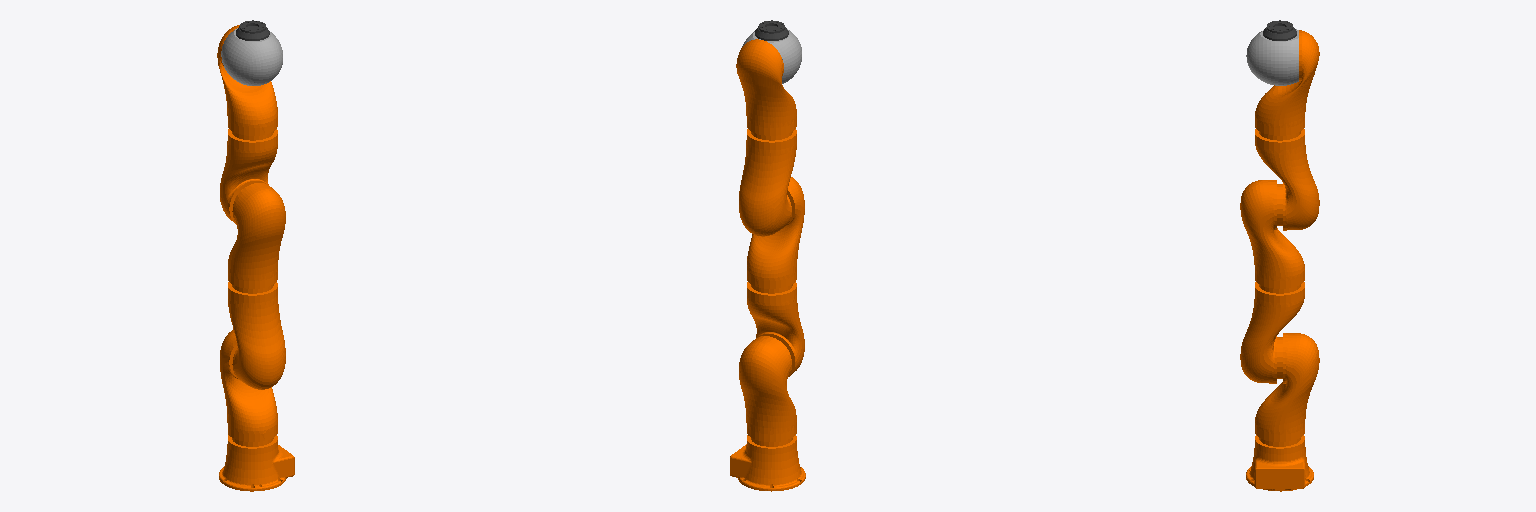
--- Facts derived from the render (not from the file) ---
3 views of the same robot in one strip: view 1: azimuth 30°, elevation 25°; view 2: azimuth 150°, elevation 25°; view 3: azimuth 270°, elevation 25° (orthographic).
Model unipi_torso with 19 links and 18 joints (14 revolute, 4 fixed), rooted at world, posed all joints at 0.
Links seen in each view (by area): view 1: left_arm_3_link, left_arm_2_link, left_arm_1_link, left_arm_base_link, left_arm_5_link, left_arm_4_link, left_arm_6_link, left_arm_7_link; view 2: left_arm_1_link, left_arm_4_link, left_arm_5_link, left_arm_3_link, left_arm_base_link, left_arm_2_link, left_arm_6_link, left_arm_7_link; view 3: left_arm_1_link, left_arm_3_link, left_arm_4_link, left_arm_2_link, left_arm_5_link, left_arm_base_link, left_arm_6_link, left_arm_7_link.
Link boxes in pixels (x1,y1,x2,y2): left_arm_3_link: [228, 183, 285, 293]; left_arm_2_link: [228, 282, 285, 389]; left_arm_1_link: [220, 329, 277, 446]; left_arm_base_link: [219, 435, 294, 491]; left_arm_5_link: [217, 25, 277, 140]; left_arm_4_link: [220, 129, 277, 224]; left_arm_6_link: [221, 28, 282, 85]; left_arm_7_link: [236, 20, 269, 40]; left_arm_1_link: [739, 336, 796, 446]; left_arm_4_link: [739, 129, 796, 236]; left_arm_5_link: [736, 39, 796, 140]; left_arm_3_link: [747, 177, 804, 293]; left_arm_base_link: [730, 435, 805, 491]; left_arm_2_link: [747, 282, 804, 376]; left_arm_6_link: [742, 29, 801, 83]; left_arm_7_link: [755, 20, 788, 40]; left_arm_1_link: [1255, 333, 1319, 446]; left_arm_3_link: [1240, 180, 1304, 293]; left_arm_4_link: [1255, 129, 1319, 230]; left_arm_2_link: [1240, 282, 1304, 383]; left_arm_5_link: [1255, 30, 1319, 140]; left_arm_base_link: [1246, 435, 1313, 491]; left_arm_6_link: [1246, 29, 1298, 85]; left_arm_7_link: [1263, 20, 1296, 40].
Size in the robot's own frame: 0.1619 by 0.1876 by 1.18 metres.
Meshes: 10 distinct files referenced, 16 mesh visuals loaded (8 binary STL); not drawn: 2 (reference not matched to a file when rendering).

The robot description file, URDF, robot "unipi_torso":
<?xml version="1.0" ?>
<!-- =================================================================================== -->
<!-- |    This document was autogenerated by xacro from [local-path]/manuelb_workspace/src/ros_unipi_torso/unipi_torso/urdf/unipi_torso.urdf.xacro | -->
<!-- |    EDITING THIS FILE BY HAND IS NOT RECOMMENDED                                 | -->
<!-- =================================================================================== -->
<robot name="unipi_torso" xmlns:xacro="http://www.ros.org/wiki/xacro">
  <material name="Kuka/DarkGrey">
    <color rgba="0.3 0.3 0.3 1.0"/>
  </material>
  <material name="Kuka/LightGrey">
    <color rgba="0.8 0.8 0.8 1.0"/>
  </material>
  <material name="Kuka/Red">
    <color rgba="0.3 0.3 0.3 1.0"/>
  </material>
  <material name="Kuka/Black">
    <color rgba="0 0 0 1.0"/>
  </material>
  <material name="Kuka/Orange">
    <color rgba="1.0 0.487 0 1.0"/>
  </material>
  <material name="Kuka/Silver">
    <color rgba="1.0 1.0 1.0 1.0"/>
  </material>
  <material name="Kuka/Grey">
    <color rgba="0.7 0.7 0.7 1.0"/>
  </material>
  <material name="Kuka/Blue">
    <color rgba="0.0 0.0 0.8 1.0"/>
  </material>
  <gazebo>
    <plugin filename="libgazebo_ros_control.so" name="gazebo_ros_control">
      <!-- <robotNamespace>/lwr</robotNamespace> -->
    </plugin>
  </gazebo>
  <link name="world"/>
  <joint name="world_torso_base_joint" type="fixed">
    <origin xyz="0 0 0"/>
    <parent link="world"/>
    <child link="torso_link"/>
  </joint>
  <link name="torso_link">
    <inertial>
      <mass value="5.0"/>
      <origin xyz="0 0 0.2"/>
      <inertia ixx="0.00954166666667" ixy="0" ixz="0" iyy="0.009" iyz="0" izz="0.00954166666667"/>
    </inertial>
    <visual>
      <geometry>
        <mesh filename="package://unipi_torso/meshes/torso.stl"/>
      </geometry>
      <material name="Silver"/>
    </visual>
    <collision>
      <geometry>
        <mesh filename="package://unipi_torso/meshes/torso_collision.stl"/>
      </geometry>
    </collision>
  </link>
  <joint name="world_left_arm_base_joint" type="fixed">
    <origin rpy="0.713724310019 0.848061955225 -0.713724310019" xyz="0.0 -0.108585 0.475"/>
    <origin rpy="0 0 0" xyz="0 0 0"/>
    <parent link="world"/>
    <child link="left_arm_base_link"/>
  </joint>
  <link name="left_arm_base_link">
    <inertial>
      <mass value="2.0"/>
      <origin xyz="0 0 0.055"/>
      <inertia ixx="0.00381666666667" ixy="0" ixz="0" iyy="0.0036" iyz="0" izz="0.00381666666667"/>
    </inertial>
    <visual>
      <origin rpy="0 0 3.14159265359" xyz="0 0 0"/>
      <geometry>
        <mesh filename="package://lwr_description/meshes/base.STL"/>
      </geometry>
      <material name="Kuka/Orange"/>
    </visual>
    <collision>
      <origin rpy="0 0 3.14159265359" xyz="0 0 0.055"/>
      <geometry>
        <!-- <mesh filename="package://lwr_description/meshes/convex/arm_base_convex.stl"/> -->
        <cylinder length="0.11" radius="0.07"/>
      </geometry>
    </collision>
  </link>
  <joint name="left_arm_0_joint" type="revolute">
    <origin rpy="0 0 0" xyz="0 0 0.11"/>
    <axis xyz="0 0 1"/>
    <limit effort="204" lower="-2.96705972839" upper="2.96705972839" velocity="1.91986217719"/>
    <safety_controller k_position="30" k_velocity="30" soft_lower_limit="-2.93215314335" soft_upper_limit="2.93215314335"/>
    <dynamics damping="1.0"/>
    <parent link="left_arm_base_link"/>
    <child link="left_arm_1_link"/>
  </joint>
  <link name="left_arm_1_link">
    <inertial>
      <mass value="2.0"/>
      <origin rpy="0 0 0" xyz="0 -0.06 0.130"/>
      <inertia ixx="0.0136666666667" ixy="0" ixz="0" iyy="0.003" iyz="0" izz="0.0118666666667"/>
    </inertial>
    <visual>
      <origin rpy="0 0 3.14159265359" xyz="0 0 -0.008"/>
      <geometry>
        <mesh filename="package://lwr_description/meshes/link_1.STL"/>
      </geometry>
      <material name="Kuka/Orange"/>
    </visual>
    <collision>
      <origin rpy="0 0 0" xyz="0 0 0.0"/>
      <geometry>
        <!--mesh filename="package://lwr_description/meshes/convex/arm_segment_a_convex.stl"/-->
        <sphere radius="0.07"/>
      </geometry>
    </collision>
    <collision>
      <origin rpy="0 0 0" xyz="0 0.06 0.2"/>
      <geometry>
        <sphere radius="0.07"/>
      </geometry>
    </collision>
    <collision>
      <origin rpy="-0.291 0 0" xyz="0 0.03 0.1"/>
      <geometry>
        <cylinder length="0.208" radius="0.07"/>
      </geometry>
    </collision>
  </link>
  <joint name="left_arm_1_joint" type="revolute">
    <origin rpy="0 0 0" xyz="0 0 0.2005"/>
    <axis xyz="0 -1 0"/>
    <limit effort="306" lower="-2.09439510239" upper="2.09439510239" velocity="1.91986217719"/>
    <safety_controller k_position="30" k_velocity="30" soft_lower_limit="-2.05948851735" soft_upper_limit="2.05948851735"/>
    <dynamics damping="1.0"/>
    <parent link="left_arm_1_link"/>
    <child link="left_arm_2_link"/>
  </joint>
  <link name="left_arm_2_link">
    <inertial>
      <mass value="2.0"/>
      <origin rpy="0 0 0" xyz="0 0.06 0.07"/>
      <inertia ixx="0.0136666666667" ixy="0" ixz="0" iyy="0.003" iyz="0" izz="0.0118666666667"/>
    </inertial>
    <visual>
      <origin rpy="0 0 3.14159265359" xyz="0 0 0.0"/>
      <geometry>
        <mesh filename="package://lwr_description/meshes/link_2.STL"/>
      </geometry>
      <material name="Kuka/Orange"/>
    </visual>
    <collision>
      <origin rpy="0 0 0" xyz="0 0 0.2"/>
      <geometry>
        <!--mesh filename="package://lwr_description/meshes/convex/arm_segment_b_convex.stl"/-->
        <sphere radius="0.07"/>
      </geometry>
    </collision>
    <collision>
      <origin rpy="0 0 0" xyz="0 -0.06 0.0"/>
      <geometry>
        <sphere radius="0.07"/>
      </geometry>
    </collision>
    <collision>
      <origin rpy="-0.291 0 0" xyz="0 -0.03 0.1"/>
      <geometry>
        <cylinder length="0.208" radius="0.07"/>
      </geometry>
    </collision>
  </link>
  <joint name="left_arm_2_joint" type="revolute">
    <origin rpy="0 0 0" xyz="0 0 0.20"/>
    <axis xyz="0 0 1"/>
    <limit effort="204" lower="-2.96705972839" upper="2.96705972839" velocity="2.26892802759"/>
    <safety_controller k_position="30" k_velocity="30" soft_lower_limit="-2.93215314335" soft_upper_limit="2.93215314335"/>
    <dynamics damping="1.0"/>
    <parent link="left_arm_2_link"/>
    <child link="left_arm_3_link"/>
  </joint>
  <link name="left_arm_3_link">
    <inertial>
      <mass value="2.0"/>
      <origin rpy="0 0 0" xyz="0 0.06 0.130"/>
      <inertia ixx="0.0136666666667" ixy="0" ixz="0" iyy="0.003" iyz="0" izz="0.0118666666667"/>
    </inertial>
    <visual>
      <origin rpy="0 0 3.14159265359" xyz="0 0 -0.008"/>
      <geometry>
        <mesh filename="package://lwr_description/meshes/link_3.STL"/>
      </geometry>
      <material name="Kuka/Orange"/>
    </visual>
    <collision>
      <origin rpy="0 0 0" xyz="0 0 0.0"/>
      <geometry>
        <!--mesh filename="package://lwr_description/meshes/convex/arm_segment_a_convex.stl"/-->
        <sphere radius="0.07"/>
      </geometry>
    </collision>
    <collision>
      <origin rpy="0 0 0" xyz="0 -0.06 0.2"/>
      <geometry>
        <sphere radius="0.07"/>
      </geometry>
    </collision>
    <collision>
      <origin rpy="0.291 0 0" xyz="0 -0.03 0.1"/>
      <geometry>
        <cylinder length="0.208" radius="0.07"/>
      </geometry>
    </collision>
  </link>
  <joint name="left_arm_3_joint" type="revolute">
    <origin rpy="0 0 0" xyz="0 0 0.20"/>
    <axis xyz="0 1 0"/>
    <limit effort="306" lower="-2.09439510239" upper="2.09439510239" velocity="2.26892802759"/>
    <safety_controller k_position="30" k_velocity="30" soft_lower_limit="-2.05948851735" soft_upper_limit="2.05948851735"/>
    <dynamics damping="1.0"/>
    <parent link="left_arm_3_link"/>
    <child link="left_arm_4_link"/>
  </joint>
  <link name="left_arm_4_link">
    <inertial>
      <mass value="2.0"/>
      <origin rpy="0 0 0" xyz="0 -0.06 0.07"/>
      <inertia ixx="0.0136666666667" ixy="0" ixz="0" iyy="0.003" iyz="0" izz="0.0118666666667"/>
    </inertial>
    <visual>
      <origin rpy="0 0 3.14159265359" xyz="0 0 0.0"/>
      <geometry>
        <mesh filename="package://lwr_description/meshes/link_4.STL"/>
      </geometry>
      <material name="Kuka/Orange"/>
    </visual>
    <collision>
      <origin rpy="0 0 0" xyz="0 0 0.2"/>
      <geometry>
        <!--mesh filename="package://lwr_description/meshes/convex/arm_segment_b_convex.stl"/-->
        <sphere radius="0.07"/>
      </geometry>
    </collision>
    <collision>
      <origin rpy="0 0 0" xyz="0 0.06 0.0"/>
      <geometry>
        <sphere radius="0.07"/>
      </geometry>
    </collision>
    <collision>
      <origin rpy="0.291 0 0" xyz="0 0.03 0.1"/>
      <geometry>
        <cylinder length="0.208" radius="0.07"/>
      </geometry>
    </collision>
  </link>
  <joint name="left_arm_4_joint" type="revolute">
    <origin rpy="0 0 0" xyz="0 0 0.20"/>
    <axis xyz="0 0 1"/>
    <limit effort="204" lower="-2.96705972839" upper="2.96705972839" velocity="2.26892802759"/>
    <safety_controller k_position="30" k_velocity="30" soft_lower_limit="-2.93215314335" soft_upper_limit="2.93215314335"/>
    <dynamics damping="1.0"/>
    <parent link="left_arm_4_link"/>
    <child link="left_arm_5_link"/>
  </joint>
  <link name="left_arm_5_link">
    <inertial>
      <mass value="2.0"/>
      <origin rpy="0 0 0" xyz="0 0 0.124"/>
      <inertia ixx="0.0126506666667" ixy="0" ixz="0" iyy="0.003" iyz="0" izz="0.0108506666667"/>
    </inertial>
    <visual>
      <origin rpy="0 0 3.14159265359" xyz="0 0 -0.008"/>
      <geometry name="left_arm_5_geom">
        <mesh filename="package://lwr_description/meshes/link_5.STL"/>
      </geometry>
      <material name="Kuka/Orange"/>
    </visual>
    <collision>
      <origin rpy="0 0 0" xyz="0 0 0.0"/>
      <geometry>
        <!--mesh filename="package://lwr_description/meshes/convex/arm_segment_last_convex.stl"/-->
        <sphere radius="0.07"/>
      </geometry>
    </collision>
    <collision>
      <origin rpy="0 0 0" xyz="0 0.04 0.19"/>
      <geometry>
        <sphere radius="0.07"/>
      </geometry>
    </collision>
    <collision>
      <origin rpy="-0.207 0 0" xyz="0 0.02 0.095"/>
      <geometry>
        <cylinder length="0.198" radius="0.07"/>
      </geometry>
    </collision>
  </link>
  <joint name="left_arm_5_joint" type="revolute">
    <origin rpy="0 0 0" xyz="0 0 0.19"/>
    <axis xyz="0 -1 0"/>
    <limit effort="306" lower="-2.09439510239" upper="2.09439510239" velocity="3.14159265359"/>
    <safety_controller k_position="30" k_velocity="30" soft_lower_limit="-2.05948851735" soft_upper_limit="2.05948851735"/>
    <dynamics damping="1.0"/>
    <parent link="left_arm_5_link"/>
    <child link="left_arm_6_link"/>
  </joint>
  <link name="left_arm_6_link">
    <inertial>
      <mass value="0.2"/>
      <origin rpy="0 0 0" xyz="0 0 0.0625"/>
      <inertia ixx="0.000520833333333" ixy="0" ixz="0" iyy="0.000520833333333" iyz="0" izz="0.000520833333333"/>
    </inertial>
    <visual>
      <origin rpy="0 0 3.14159265359" xyz="0 0 0"/>
      <geometry>
        <mesh filename="package://lwr_description/meshes/link_6.STL"/>
      </geometry>
      <material name="Kuka/Grey"/>
    </visual>
    <collision>
      <origin rpy="0 0 3.14159265359" xyz="0 0 0"/>
      <geometry>
        <mesh filename="package://lwr_description/meshes/convex/arm_wrist_convex.stl"/>
      </geometry>
    </collision>
  </link>
  <joint name="left_arm_6_joint" type="revolute">
    <origin rpy="0 0 0" xyz="0 0 0.078"/>
    <axis xyz="0 0 1"/>
    <limit effort="204" lower="-2.96705972839" upper="2.96705972839" velocity="3.14159265359"/>
    <safety_controller k_position="30" k_velocity="30" soft_lower_limit="-2.93215314335" soft_upper_limit="2.93215314335"/>
    <dynamics damping="1.0"/>
    <parent link="left_arm_6_link"/>
    <child link="left_arm_7_link"/>
  </joint>
  <link name="left_arm_7_link">
    <inertial>
      <mass value="0.2"/>
      <origin xyz="0 0 0"/>
      <inertia ixx="0.0333333333333" ixy="0" ixz="0" iyy="0.0333333333333" iyz="0" izz="0.0333333333333"/>
    </inertial>
    <visual>
      <origin rpy="0 0 3.14159265359" xyz="0 0 0"/>
      <geometry>
        <mesh filename="package://lwr_description/meshes/link_7.STL"/>
      </geometry>
      <material name="Kuka/DarkGrey"/>
    </visual>
    <collision>
      <origin rpy="0 0 3.14159265359" xyz="0 0 0"/>
      <geometry>
        <cylinder length="0.05" radius="0.04"/>
      </geometry>
    </collision>
  </link>
  <gazebo reference="left_arm_base_link">
    <!-- <gravity>true</gravity> -->
    <material>Gazebo/Orange</material>
  </gazebo>
  <gazebo reference="left_arm_1_link">
    <!-- <gravity>true</gravity> -->
    <material>Gazebo/Orange</material>
  </gazebo>
  <gazebo reference="left_arm_2_link">
    <!-- <gravity>true</gravity> -->
    <material>Gazebo/Orange</material>
  </gazebo>
  <gazebo reference="left_arm_3_link">
    <!-- <gravity>true</gravity> -->
    <material>Gazebo/Orange</material>
  </gazebo>
  <gazebo reference="left_arm_4_link">
    <!-- <gravity>true</gravity> -->
    <material>Gazebo/Orange</material>
  </gazebo>
  <gazebo reference="left_arm_5_link">
    <!-- <gravity>true</gravity> -->
    <material>Gazebo/Orange</material>
  </gazebo>
  <gazebo reference="left_arm_6_link">
    <!-- <gravity>true</gravity> -->
    <material>Gazebo/Orange</material>
  </gazebo>
  <gazebo reference="left_arm_7_link">
    <!-- <gravity>true</gravity> -->
    <material>Gazebo/Grey</material>
  </gazebo>
  <transmission name="left_arm_0_trans">
    <type>transmission_interface/SimpleTransmission</type>
    <joint name="left_arm_0_joint"/>
    <actuator name="left_arm_0_motor">
      <hardwareInterface>EffortJointInterface</hardwareInterface>
      <mechanicalReduction>1</mechanicalReduction>
    </actuator>
  </transmission>
  <transmission name="left_arm_1_trans">
    <type>transmission_interface/SimpleTransmission</type>
    <joint name="left_arm_1_joint"/>
    <actuator name="left_arm_1_motor">
      <hardwareInterface>EffortJointInterface</hardwareInterface>
      <mechanicalReduction>1</mechanicalReduction>
    </actuator>
  </transmission>
  <transmission name="left_arm_2_trans">
    <type>transmission_interface/SimpleTransmission</type>
    <joint name="left_arm_2_joint"/>
    <actuator name="left_arm_2_motor">
      <hardwareInterface>EffortJointInterface</hardwareInterface>
      <mechanicalReduction>1</mechanicalReduction>
    </actuator>
  </transmission>
  <transmission name="left_arm_3_trans">
    <type>transmission_interface/SimpleTransmission</type>
    <joint name="left_arm_3_joint"/>
    <actuator name="left_arm_3_motor">
      <hardwareInterface>EffortJointInterface</hardwareInterface>
      <mechanicalReduction>1</mechanicalReduction>
    </actuator>
  </transmission>
  <transmission name="left_arm_4_trans">
    <type>transmission_interface/SimpleTransmission</type>
    <joint name="left_arm_4_joint"/>
    <actuator name="left_arm_4_motor">
      <hardwareInterface>EffortJointInterface</hardwareInterface>
      <mechanicalReduction>1</mechanicalReduction>
    </actuator>
  </transmission>
  <transmission name="left_arm_5_trans">
    <type>transmission_interface/SimpleTransmission</type>
    <joint name="left_arm_5_joint"/>
    <actuator name="left_arm_5_motor">
      <hardwareInterface>EffortJointInterface</hardwareInterface>
      <mechanicalReduction>1</mechanicalReduction>
    </actuator>
  </transmission>
  <transmission name="left_arm_6_trans">
    <type>transmission_interface/SimpleTransmission</type>
    <joint name="left_arm_6_joint"/>
    <actuator name="left_arm_6_motor">
      <hardwareInterface>EffortJointInterface</hardwareInterface>
      <mechanicalReduction>1</mechanicalReduction>
    </actuator>
  </transmission>
  <joint name="world_right_arm_base_joint" type="fixed">
    <origin rpy="-0.713724310019 0.848061955225 0.713724310019" xyz="0.0 0.108585 0.475"/>
    <origin rpy="0 0 0" xyz="0 0 0"/>
    <parent link="world"/>
    <child link="right_arm_base_link"/>
  </joint>
  <link name="right_arm_base_link">
    <inertial>
      <mass value="2.0"/>
      <origin xyz="0 0 0.055"/>
      <inertia ixx="0.00381666666667" ixy="0" ixz="0" iyy="0.0036" iyz="0" izz="0.00381666666667"/>
    </inertial>
    <visual>
      <origin rpy="0 0 3.14159265359" xyz="0 0 0"/>
      <geometry>
        <mesh filename="package://lwr_description/meshes/base.STL"/>
      </geometry>
      <material name="Kuka/Orange"/>
    </visual>
    <collision>
      <origin rpy="0 0 3.14159265359" xyz="0 0 0.055"/>
      <geometry>
        <!-- <mesh filename="package://lwr_description/meshes/convex/arm_base_convex.stl"/> -->
        <cylinder length="0.11" radius="0.07"/>
      </geometry>
    </collision>
  </link>
  <joint name="right_arm_0_joint" type="revolute">
    <origin rpy="0 0 0" xyz="0 0 0.11"/>
    <axis xyz="0 0 1"/>
    <limit effort="204" lower="-2.96705972839" upper="2.96705972839" velocity="1.91986217719"/>
    <safety_controller k_position="30" k_velocity="30" soft_lower_limit="-2.93215314335" soft_upper_limit="2.93215314335"/>
    <dynamics damping="1.0"/>
    <parent link="right_arm_base_link"/>
    <child link="right_arm_1_link"/>
  </joint>
  <link name="right_arm_1_link">
    <inertial>
      <mass value="2.0"/>
      <origin rpy="0 0 0" xyz="0 -0.06 0.130"/>
      <inertia ixx="0.0136666666667" ixy="0" ixz="0" iyy="0.003" iyz="0" izz="0.0118666666667"/>
    </inertial>
    <visual>
      <origin rpy="0 0 3.14159265359" xyz="0 0 -0.008"/>
      <geometry>
        <mesh filename="package://lwr_description/meshes/link_1.STL"/>
      </geometry>
      <material name="Kuka/Orange"/>
    </visual>
    <collision>
      <origin rpy="0 0 0" xyz="0 0 0.0"/>
      <geometry>
        <!--mesh filename="package://lwr_description/meshes/convex/arm_segment_a_convex.stl"/-->
        <sphere radius="0.07"/>
      </geometry>
    </collision>
    <collision>
      <origin rpy="0 0 0" xyz="0 0.06 0.2"/>
      <geometry>
        <sphere radius="0.07"/>
      </geometry>
    </collision>
    <collision>
      <origin rpy="-0.291 0 0" xyz="0 0.03 0.1"/>
      <geometry>
        <cylinder length="0.208" radius="0.07"/>
      </geometry>
    </collision>
  </link>
  <joint name="right_arm_1_joint" type="revolute">
    <origin rpy="0 0 0" xyz="0 0 0.2005"/>
    <axis xyz="0 -1 0"/>
    <limit effort="306" lower="-2.09439510239" upper="2.09439510239" velocity="1.91986217719"/>
    <safety_controller k_position="30" k_velocity="30" soft_lower_limit="-2.05948851735" soft_upper_limit="2.05948851735"/>
    <dynamics damping="1.0"/>
    <parent link="right_arm_1_link"/>
    <child link="right_arm_2_link"/>
  </joint>
  <link name="right_arm_2_link">
    <inertial>
      <mass value="2.0"/>
      <origin rpy="0 0 0" xyz="0 0.06 0.07"/>
      <inertia ixx="0.0136666666667" ixy="0" ixz="0" iyy="0.003" iyz="0" izz="0.0118666666667"/>
    </inertial>
    <visual>
      <origin rpy="0 0 3.14159265359" xyz="0 0 0.0"/>
      <geometry>
        <mesh filename="package://lwr_description/meshes/link_2.STL"/>
      </geometry>
      <material name="Kuka/Orange"/>
    </visual>
    <collision>
      <origin rpy="0 0 0" xyz="0 0 0.2"/>
      <geometry>
        <!--mesh filename="package://lwr_description/meshes/convex/arm_segment_b_convex.stl"/-->
        <sphere radius="0.07"/>
      </geometry>
    </collision>
    <collision>
      <origin rpy="0 0 0" xyz="0 -0.06 0.0"/>
      <geometry>
        <sphere radius="0.07"/>
      </geometry>
    </collision>
    <collision>
      <origin rpy="-0.291 0 0" xyz="0 -0.03 0.1"/>
      <geometry>
        <cylinder length="0.208" radius="0.07"/>
      </geometry>
    </collision>
  </link>
  <joint name="right_arm_2_joint" type="revolute">
    <origin rpy="0 0 0" xyz="0 0 0.20"/>
    <axis xyz="0 0 1"/>
    <limit effort="204" lower="-2.96705972839" upper="2.96705972839" velocity="2.26892802759"/>
    <safety_controller k_position="30" k_velocity="30" soft_lower_limit="-2.93215314335" soft_upper_limit="2.93215314335"/>
    <dynamics damping="1.0"/>
    <parent link="right_arm_2_link"/>
    <child link="right_arm_3_link"/>
  </joint>
  <link name="right_arm_3_link">
    <inertial>
      <mass value="2.0"/>
      <origin rpy="0 0 0" xyz="0 0.06 0.130"/>
      <inertia ixx="0.0136666666667" ixy="0" ixz="0" iyy="0.003" iyz="0" izz="0.0118666666667"/>
    </inertial>
    <visual>
      <origin rpy="0 0 3.14159265359" xyz="0 0 -0.008"/>
      <geometry>
        <mesh filename="package://lwr_description/meshes/link_3.STL"/>
      </geometry>
      <material name="Kuka/Orange"/>
    </visual>
    <collision>
      <origin rpy="0 0 0" xyz="0 0 0.0"/>
      <geometry>
        <!--mesh filename="package://lwr_description/meshes/convex/arm_segment_a_convex.stl"/-->
        <sphere radius="0.07"/>
      </geometry>
    </collision>
    <collision>
      <origin rpy="0 0 0" xyz="0 -0.06 0.2"/>
      <geometry>
        <sphere radius="0.07"/>
      </geometry>
    </collision>
    <collision>
      <origin rpy="0.291 0 0" xyz="0 -0.03 0.1"/>
      <geometry>
        <cylinder length="0.208" radius="0.07"/>
      </geometry>
    </collision>
  </link>
  <joint name="right_arm_3_joint" type="revolute">
    <origin rpy="0 0 0" xyz="0 0 0.20"/>
    <axis xyz="0 1 0"/>
    <limit effort="306" lower="-2.09439510239" upper="2.09439510239" velocity="2.26892802759"/>
    <safety_controller k_position="30" k_velocity="30" soft_lower_limit="-2.05948851735" soft_upper_limit="2.05948851735"/>
    <dynamics damping="1.0"/>
    <parent link="right_arm_3_link"/>
    <child link="right_arm_4_link"/>
  </joint>
  <link name="right_arm_4_link">
    <inertial>
      <mass value="2.0"/>
      <origin rpy="0 0 0" xyz="0 -0.06 0.07"/>
      <inertia ixx="0.0136666666667" ixy="0" ixz="0" iyy="0.003" iyz="0" izz="0.0118666666667"/>
    </inertial>
    <visual>
      <origin rpy="0 0 3.14159265359" xyz="0 0 0.0"/>
      <geometry>
        <mesh filename="package://lwr_description/meshes/link_4.STL"/>
      </geometry>
      <material name="Kuka/Orange"/>
    </visual>
    <collision>
      <origin rpy="0 0 0" xyz="0 0 0.2"/>
      <geometry>
        <!--mesh filename="package://lwr_description/meshes/convex/arm_segment_b_convex.stl"/-->
        <sphere radius="0.07"/>
      </geometry>
    </collision>
    <collision>
      <origin rpy="0 0 0" xyz="0 0.06 0.0"/>
      <geometry>
        <sphere radius="0.07"/>
      </geometry>
    </collision>
    <collision>
      <origin rpy="0.291 0 0" xyz="0 0.03 0.1"/>
      <geometry>
        <cylinder length="0.208" radius="0.07"/>
      </geometry>
    </collision>
  </link>
  <joint name="right_arm_4_joint" type="revolute">
    <origin rpy="0 0 0" xyz="0 0 0.20"/>
    <axis xyz="0 0 1"/>
    <limit effort="204" lower="-2.96705972839" upper="2.96705972839" velocity="2.26892802759"/>
    <safety_controller k_position="30" k_velocity="30" soft_lower_limit="-2.93215314335" soft_upper_limit="2.93215314335"/>
    <dynamics damping="1.0"/>
    <parent link="right_arm_4_link"/>
    <child link="right_arm_5_link"/>
  </joint>
  <link name="right_arm_5_link">
    <inertial>
      <mass value="2.0"/>
      <origin rpy="0 0 0" xyz="0 0 0.124"/>
      <inertia ixx="0.0126506666667" ixy="0" ixz="0" iyy="0.003" iyz="0" izz="0.0108506666667"/>
    </inertial>
    <visual>
      <origin rpy="0 0 3.14159265359" xyz="0 0 -0.008"/>
      <geometry name="right_arm_5_geom">
        <mesh filename="package://lwr_description/meshes/link_5.STL"/>
      </geometry>
      <material name="Kuka/Orange"/>
    </visual>
    <collision>
      <origin rpy="0 0 0" xyz="0 0 0.0"/>
      <geometry>
        <!--mesh filename="package://lwr_description/meshes/convex/arm_segment_last_convex.stl"/-->
        <sphere radius="0.07"/>
      </geometry>
    </collision>
    <collision>
      <origin rpy="0 0 0" xyz="0 0.04 0.19"/>
      <geometry>
        <sphere radius="0.07"/>
      </geometry>
    </collision>
    <collision>
      <origin rpy="-0.207 0 0" xyz="0 0.02 0.095"/>
      <geometry>
        <cylinder length="0.198" radius="0.07"/>
      </geometry>
    </collision>
  </link>
  <joint name="right_arm_5_joint" type="revolute">
    <origin rpy="0 0 0" xyz="0 0 0.19"/>
    <axis xyz="0 -1 0"/>
    <limit effort="306" lower="-2.09439510239" upper="2.09439510239" velocity="3.14159265359"/>
    <safety_controller k_position="30" k_velocity="30" soft_lower_limit="-2.05948851735" soft_upper_limit="2.05948851735"/>
    <dynamics damping="1.0"/>
    <parent link="right_arm_5_link"/>
    <child link="right_arm_6_link"/>
  </joint>
  <link name="right_arm_6_link">
    <inertial>
      <mass value="0.2"/>
      <origin rpy="0 0 0" xyz="0 0 0.0625"/>
      <inertia ixx="0.000520833333333" ixy="0" ixz="0" iyy="0.000520833333333" iyz="0" izz="0.000520833333333"/>
    </inertial>
    <visual>
      <origin rpy="0 0 3.14159265359" xyz="0 0 0"/>
      <geometry>
        <mesh filename="package://lwr_description/meshes/link_6.STL"/>
      </geometry>
      <material name="Kuka/Grey"/>
    </visual>
    <collision>
      <origin rpy="0 0 3.14159265359" xyz="0 0 0"/>
      <geometry>
        <mesh filename="package://lwr_description/meshes/convex/arm_wrist_convex.stl"/>
      </geometry>
    </collision>
  </link>
  <joint name="right_arm_6_joint" type="revolute">
    <origin rpy="0 0 0" xyz="0 0 0.078"/>
    <axis xyz="0 0 1"/>
    <limit effort="204" lower="-2.96705972839" upper="2.96705972839" velocity="3.14159265359"/>
    <safety_controller k_position="30" k_velocity="30" soft_lower_limit="-2.93215314335" soft_upper_limit="2.93215314335"/>
    <dynamics damping="1.0"/>
    <parent link="right_arm_6_link"/>
    <child link="right_arm_7_link"/>
  </joint>
  <link name="right_arm_7_link">
    <inertial>
      <mass value="0.2"/>
      <origin xyz="0 0 0"/>
      <inertia ixx="0.0333333333333" ixy="0" ixz="0" iyy="0.0333333333333" iyz="0" izz="0.0333333333333"/>
    </inertial>
    <visual>
      <origin rpy="0 0 3.14159265359" xyz="0 0 0"/>
      <geometry>
        <mesh filename="package://lwr_description/meshes/link_7.STL"/>
      </geometry>
      <material name="Kuka/DarkGrey"/>
    </visual>
    <collision>
      <origin rpy="0 0 3.14159265359" xyz="0 0 0"/>
      <geometry>
        <cylinder length="0.05" radius="0.04"/>
      </geometry>
    </collision>
  </link>
  <gazebo reference="right_arm_base_link">
    <!-- <gravity>true</gravity> -->
    <material>Gazebo/Orange</material>
  </gazebo>
  <gazebo reference="right_arm_1_link">
    <!-- <gravity>true</gravity> -->
    <material>Gazebo/Orange</material>
  </gazebo>
  <gazebo reference="right_arm_2_link">
    <!-- <gravity>true</gravity> -->
    <material>Gazebo/Orange</material>
  </gazebo>
  <gazebo reference="right_arm_3_link">
    <!-- <gravity>true</gravity> -->
    <material>Gazebo/Orange</material>
  </gazebo>
  <gazebo reference="right_arm_4_link">
    <!-- <gravity>true</gravity> -->
    <material>Gazebo/Orange</material>
  </gazebo>
  <gazebo reference="right_arm_5_link">
    <!-- <gravity>true</gravity> -->
    <material>Gazebo/Orange</material>
  </gazebo>
  <gazebo reference="right_arm_6_link">
    <!-- <gravity>true</gravity> -->
    <material>Gazebo/Orange</material>
  </gazebo>
  <gazebo reference="right_arm_7_link">
    <!-- <gravity>true</gravity> -->
    <material>Gazebo/Grey</material>
  </gazebo>
  <transmission name="right_arm_0_trans">
    <type>transmission_interface/SimpleTransmission</type>
    <joint name="right_arm_0_joint"/>
    <actuator name="right_arm_0_motor">
      <hardwareInterface>EffortJointInterface</hardwareInterface>
      <mechanicalReduction>1</mechanicalReduction>
    </actuator>
  </transmission>
  <transmission name="right_arm_1_trans">
    <type>transmission_interface/SimpleTransmission</type>
    <joint name="right_arm_1_joint"/>
    <actuator name="right_arm_1_motor">
      <hardwareInterface>EffortJointInterface</hardwareInterface>
      <mechanicalReduction>1</mechanicalReduction>
    </actuator>
  </transmission>
  <transmission name="right_arm_2_trans">
    <type>transmission_interface/SimpleTransmission</type>
    <joint name="right_arm_2_joint"/>
    <actuator name="right_arm_2_motor">
      <hardwareInterface>EffortJointInterface</hardwareInterface>
      <mechanicalReduction>1</mechanicalReduction>
    </actuator>
  </transmission>
  <transmission name="right_arm_3_trans">
    <type>transmission_interface/SimpleTransmission</type>
    <joint name="right_arm_3_joint"/>
    <actuator name="right_arm_3_motor">
      <hardwareInterface>EffortJointInterface</hardwareInterface>
      <mechanicalReduction>1</mechanicalReduction>
    </actuator>
  </transmission>
  <transmission name="right_arm_4_trans">
    <type>transmission_interface/SimpleTransmission</type>
    <joint name="right_arm_4_joint"/>
    <actuator name="right_arm_4_motor">
      <hardwareInterface>EffortJointInterface</hardwareInterface>
      <mechanicalReduction>1</mechanicalReduction>
    </actuator>
  </transmission>
  <transmission name="right_arm_5_trans">
    <type>transmission_interface/SimpleTransmission</type>
    <joint name="right_arm_5_joint"/>
    <actuator name="right_arm_5_motor">
      <hardwareInterface>EffortJointInterface</hardwareInterface>
      <mechanicalReduction>1</mechanicalReduction>
    </actuator>
  </transmission>
  <transmission name="right_arm_6_trans">
    <type>transmission_interface/SimpleTransmission</type>
    <joint name="right_arm_6_joint"/>
    <actuator name="right_arm_6_motor">
      <hardwareInterface>EffortJointInterface</hardwareInterface>
      <mechanicalReduction>1</mechanicalReduction>
    </actuator>
  </transmission>
  <joint name="right_arm_7_link_right_ef_base_joint" type="fixed">
    <origin rpy="0 0 0" xyz="0.0 0.0 0.0945"/>
    <parent link="right_arm_7_link"/>
    <child link="right_ef_link"/>
  </joint>
  <link name="right_ef_link">
    <visual>
      <geometry>
        <mesh filename="package://lwr_end_efectors/meshes/test_force_identification.stl"/>
      </geometry>
      <material name="Black"/>
    </visual>
    <collision>
      <geometry>
        <mesh filename="package://lwr_end_efectors/meshes/test_force_identification.stl"/>
      </geometry>
      <material name="Black"/>
    </collision>
  </link>
  <!--   <xacro:model_thimble name="right_thumb_thimble" parent="right_thumb_distal_link" color="Black">
    <origin xyz="0.02 0.0373 0" rpy="${M_PI/2} -${25*M_PI/180} ${M_PI}"/>
  </xacro:model_thimble> -->
  <gazebo reference="world">
    <static>true</static>
  </gazebo>
</robot>
